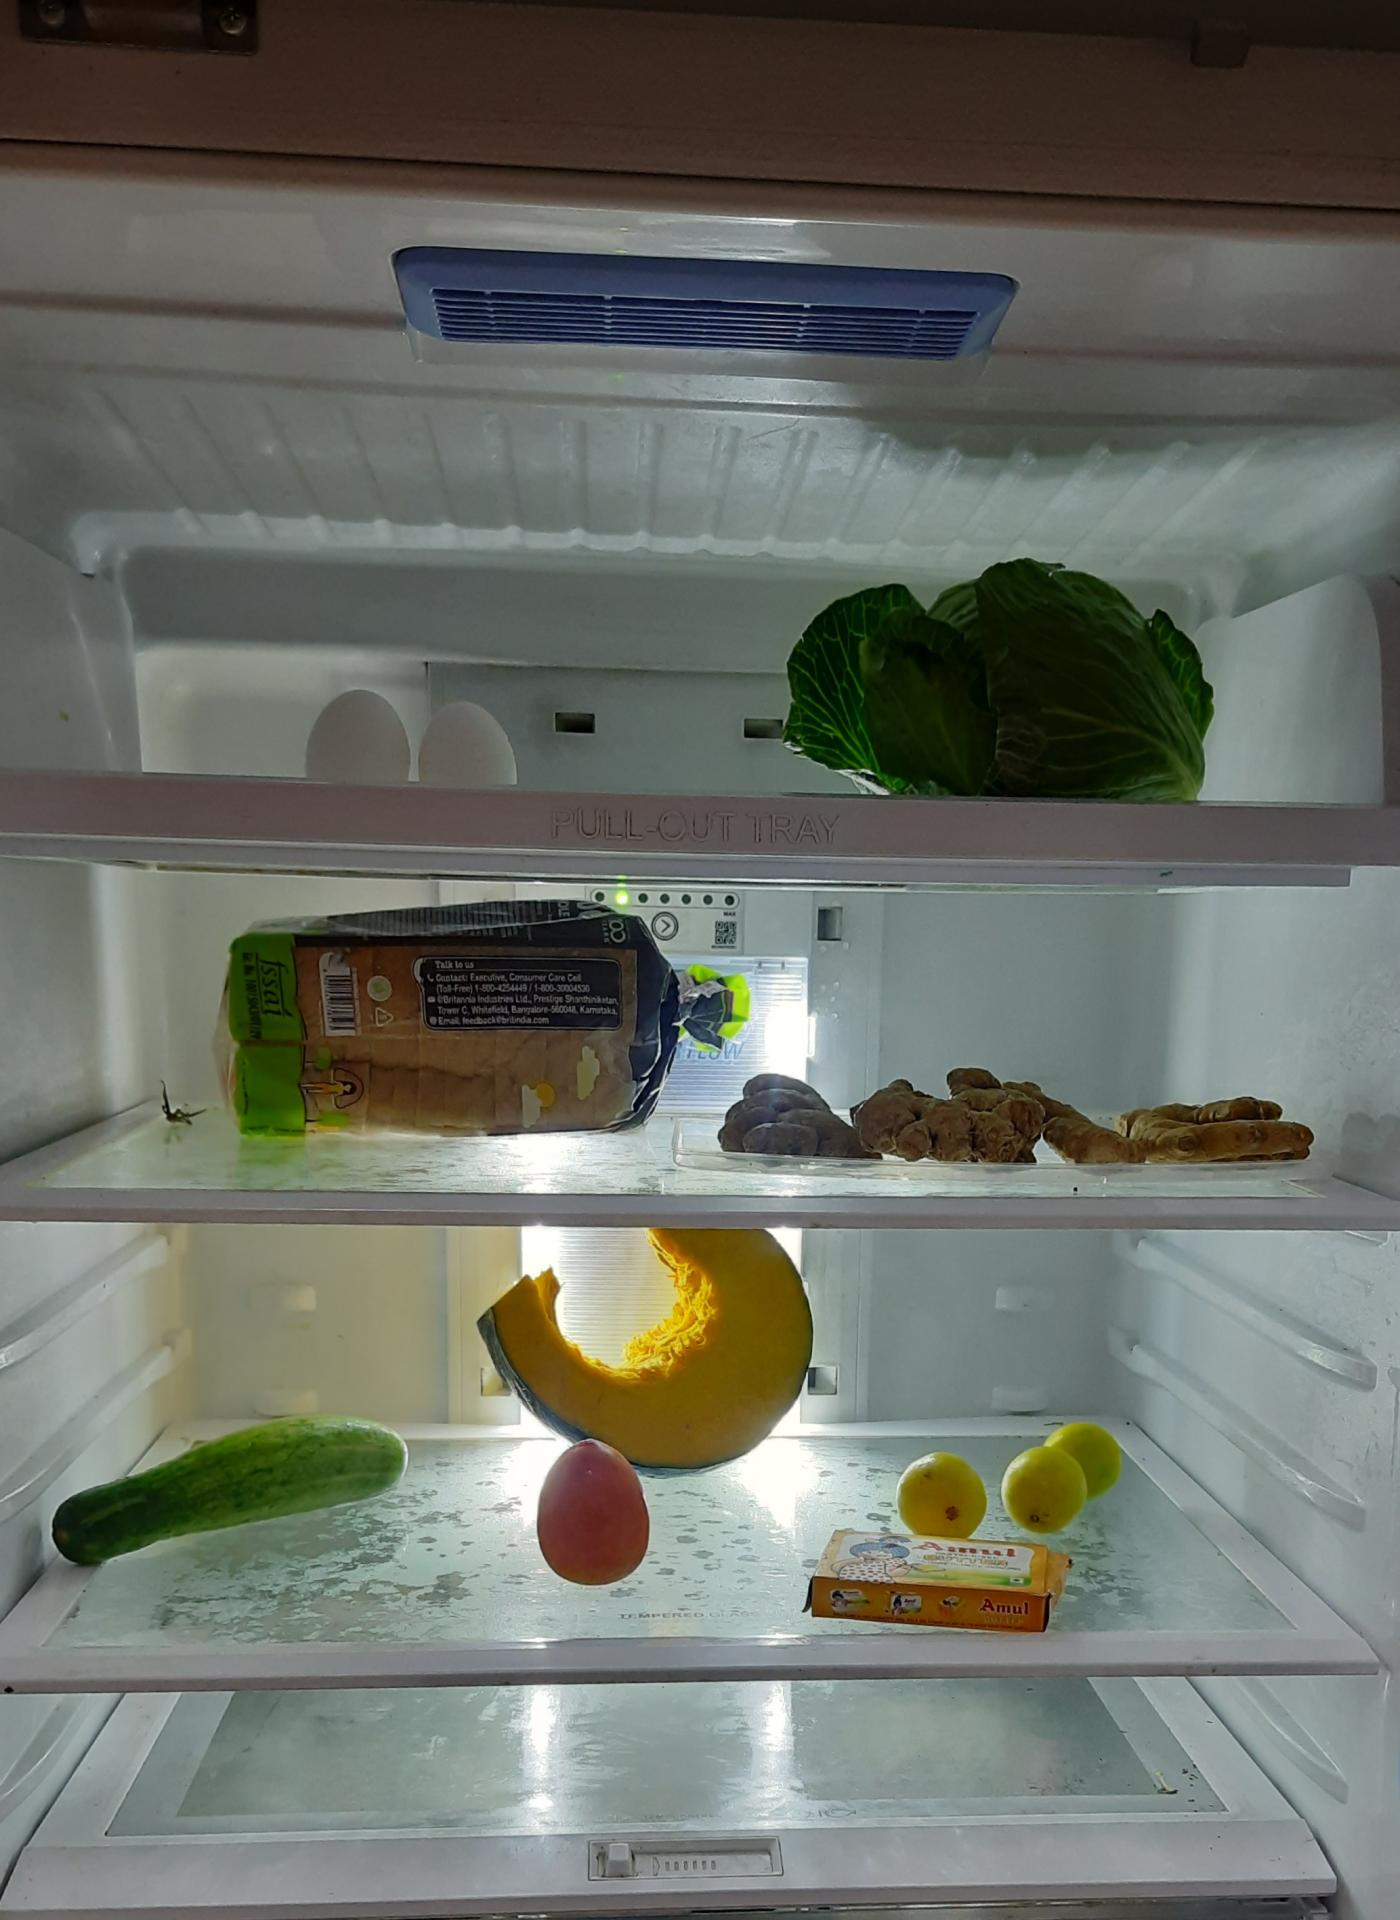bread: (230, 902, 725, 1130)
butter: (804, 1534, 1072, 1644)
cabbage: (784, 555, 1221, 795)
cucumber: (49, 1419, 419, 1567)
egg: (303, 687, 517, 789)
ginger: (726, 1078, 1315, 1182)
lemon: (1002, 1421, 1130, 1534), (895, 1449, 988, 1541)
pumpkin: (474, 1221, 814, 1467)
tomato: (535, 1439, 655, 1585)
